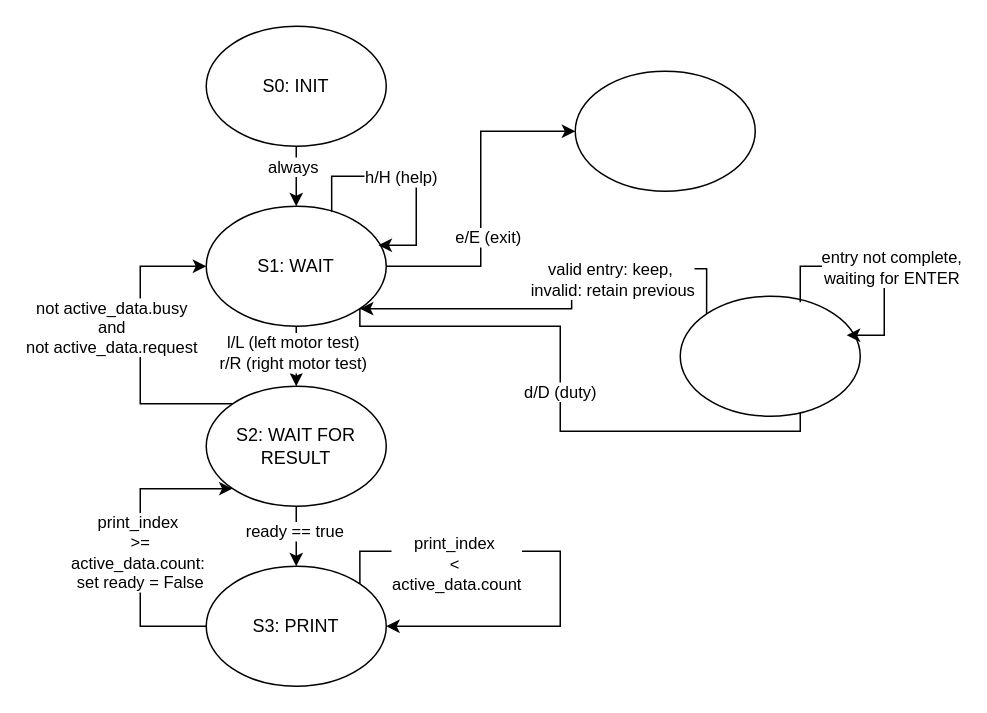
This 987x713 diagram has some shape labels left out. The shapes that lost their labels are listed below. From the top down, each one's centre as x and y in pixels, then its label:
[664,130]: S4: EXIT
[769,355]: S6: DUTY CYCLE
